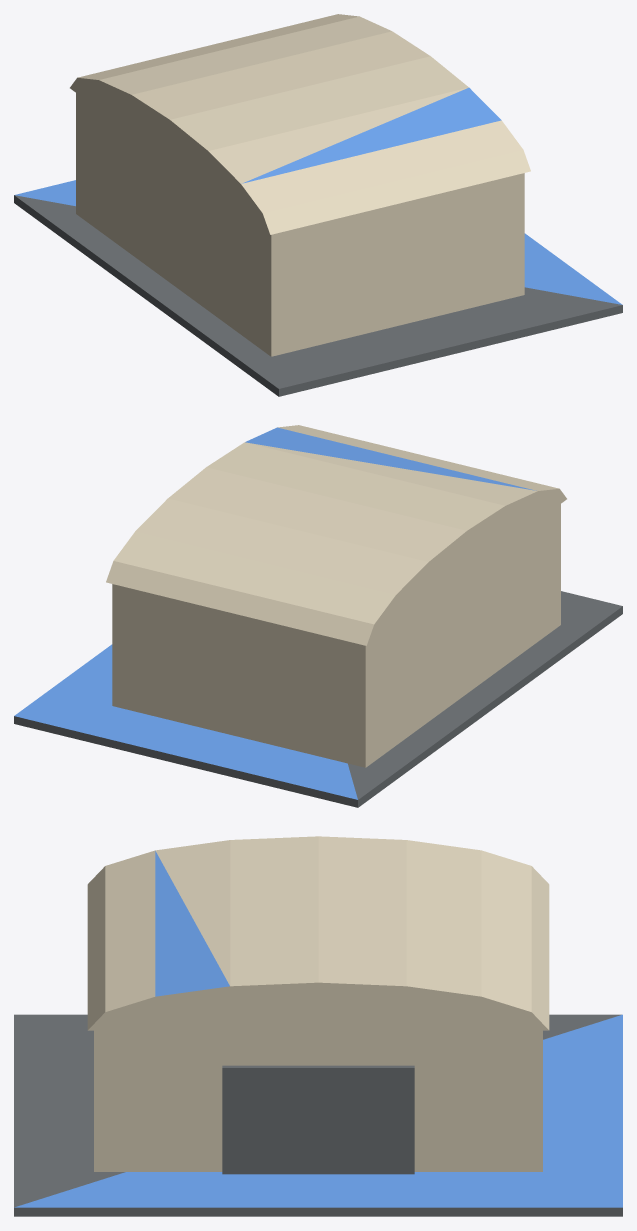
File: meridian_vehicle_factory.glb
3 renders of one model, top to bottom at view 1: azimuth 30°, elevation 25°; view 2: azimuth 150°, elevation 25°; view 3: azimuth 270°, elevation 25°, orthographic. The views are drawn at different scales.
Parts seen in each view (by area): view 1: hull; view 2: hull; view 3: hull, door.
Part boxes in pixels (box(x1,y1,x2,y2)): hull: box(14, 14, 622, 396); hull: box(14, 425, 622, 807); hull: box(14, 836, 622, 1216); door: box(222, 1065, 414, 1174).
Bounding box in the file's own units: 11.4 × 5.52 × 15.2.
